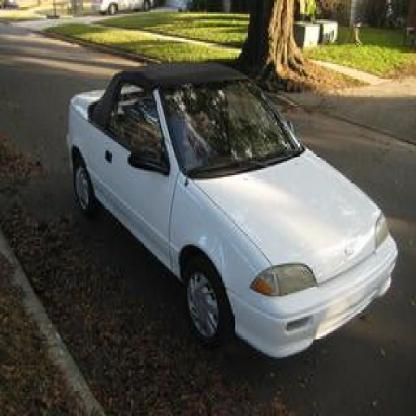Vehicle: (65, 64, 400, 364)
